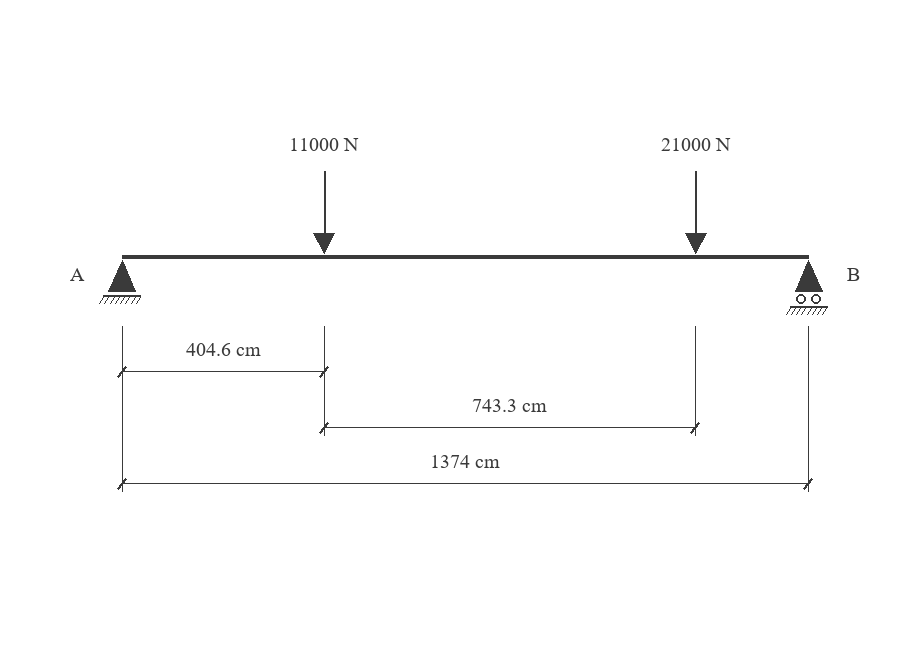pin_support: (99, 260, 141, 304)
point_load: (313, 171, 335, 254), (685, 171, 707, 254)
roller_support: (786, 260, 828, 315)
